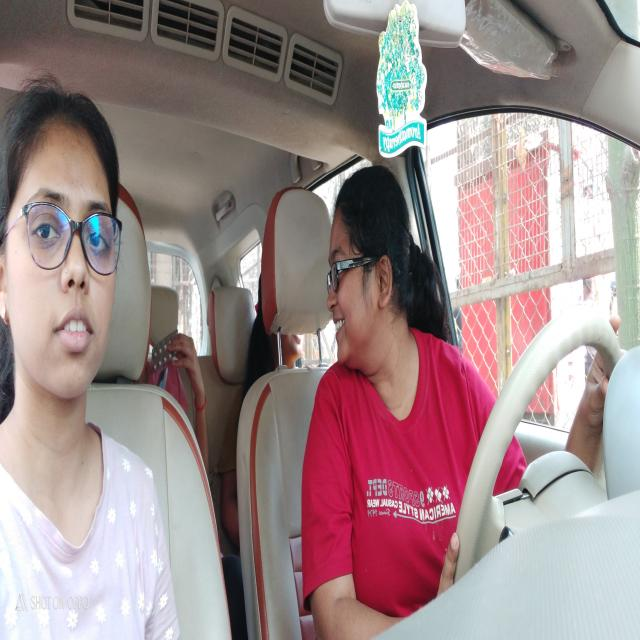LeftRight: (322, 170, 409, 390)
person: (0, 67, 127, 416)
